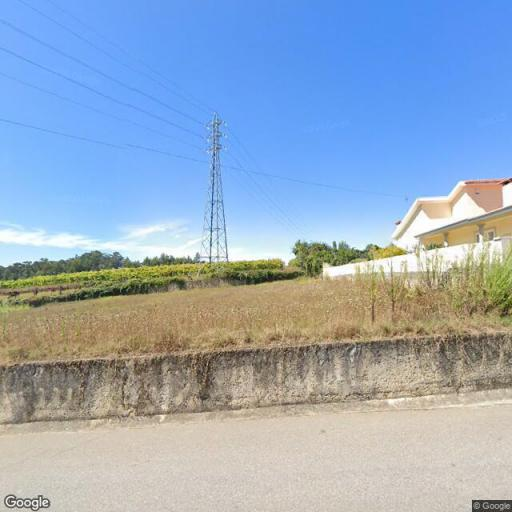ss_3: (202, 110, 232, 267)
